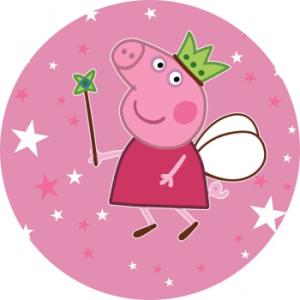ImgView: (1, 1, 299, 299)
